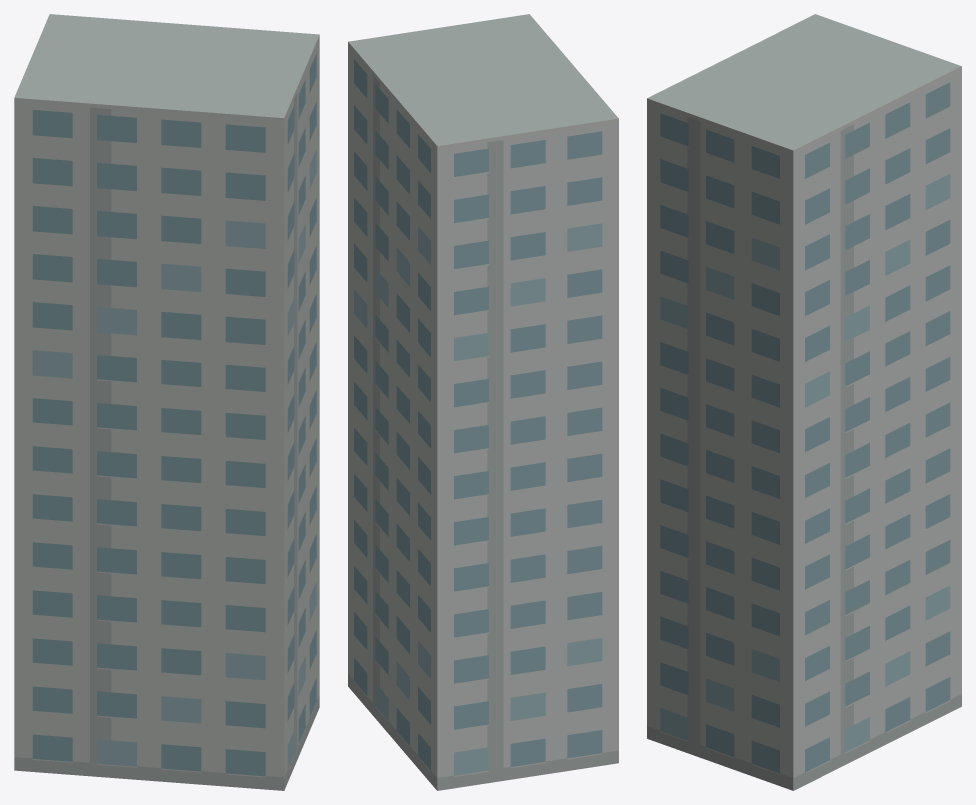
File: residential-b93b8d82-9972-46c9-9b36-f8aa466bbaa3.glb
3 renders of one model, left to right at view 1: azimuth 30°, elevation 25°; view 2: azimuth 150°, elevation 25°; view 3: azimuth 270°, elevation 25°, orthographic. The views are drawn at different scales.
Visible parts, largest first — view 1: residential-b93b8d82-9972-46c9-9b36-f8aa466bbaa3.tmp; view 2: residential-b93b8d82-9972-46c9-9b36-f8aa466bbaa3.tmp; view 3: residential-b93b8d82-9972-46c9-9b36-f8aa466bbaa3.tmp.
Boxes of the visible parts, x1,y1,x2,y2 form: residential-b93b8d82-9972-46c9-9b36-f8aa466bbaa3.tmp: (14,14,319,790); residential-b93b8d82-9972-46c9-9b36-f8aa466bbaa3.tmp: (348,14,618,790); residential-b93b8d82-9972-46c9-9b36-f8aa466bbaa3.tmp: (647,14,961,790).
Bounding box in the file's own units: 18.76 × 41 × 18.28.
